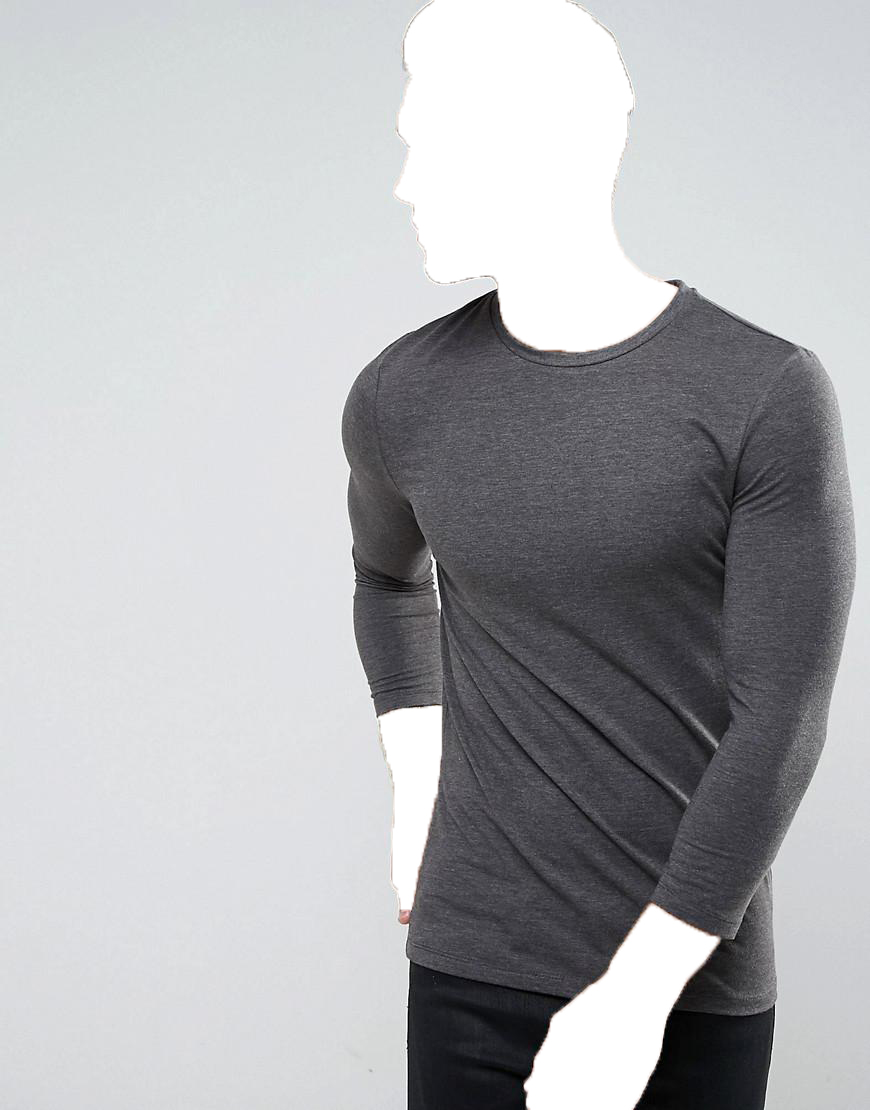teeshirt: (335, 285, 866, 1013)
